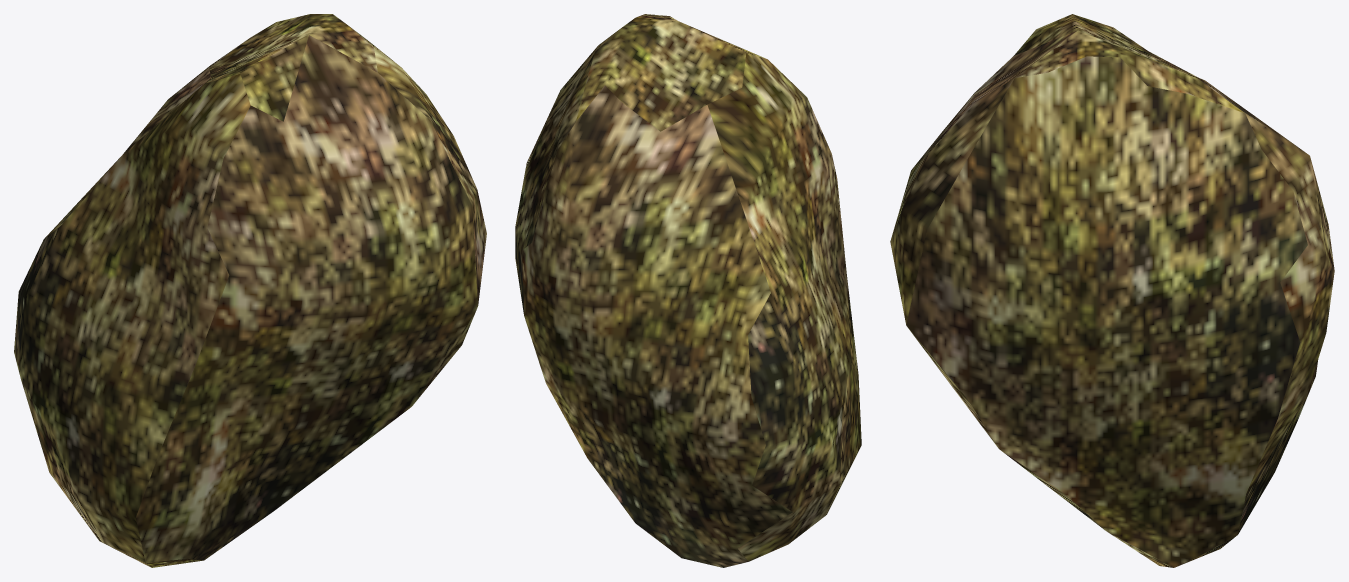
3 views of the same model, side by side, from view 1: azimuth 30°, elevation 25°; view 2: azimuth 150°, elevation 25°; view 3: azimuth 270°, elevation 25° (orthographic). The views are drawn at different scales.
Visible parts, largest first — view 1: Nugget; view 2: Nugget; view 3: Nugget.
Boxes of the visible parts, <box> form: Nugget: <box>14,14,486,567</box>; Nugget: <box>515,14,861,567</box>; Nugget: <box>890,14,1334,567</box>.
Bounding box in the file's own units: 9.46 × 13.4 × 9.4.
